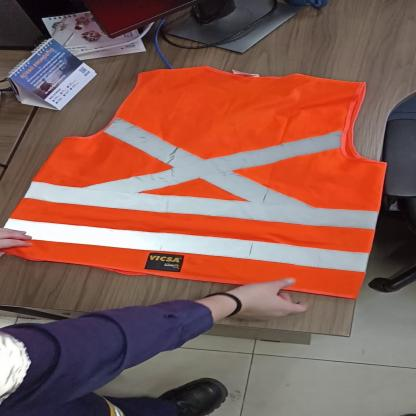colete: (0, 65, 390, 301)
